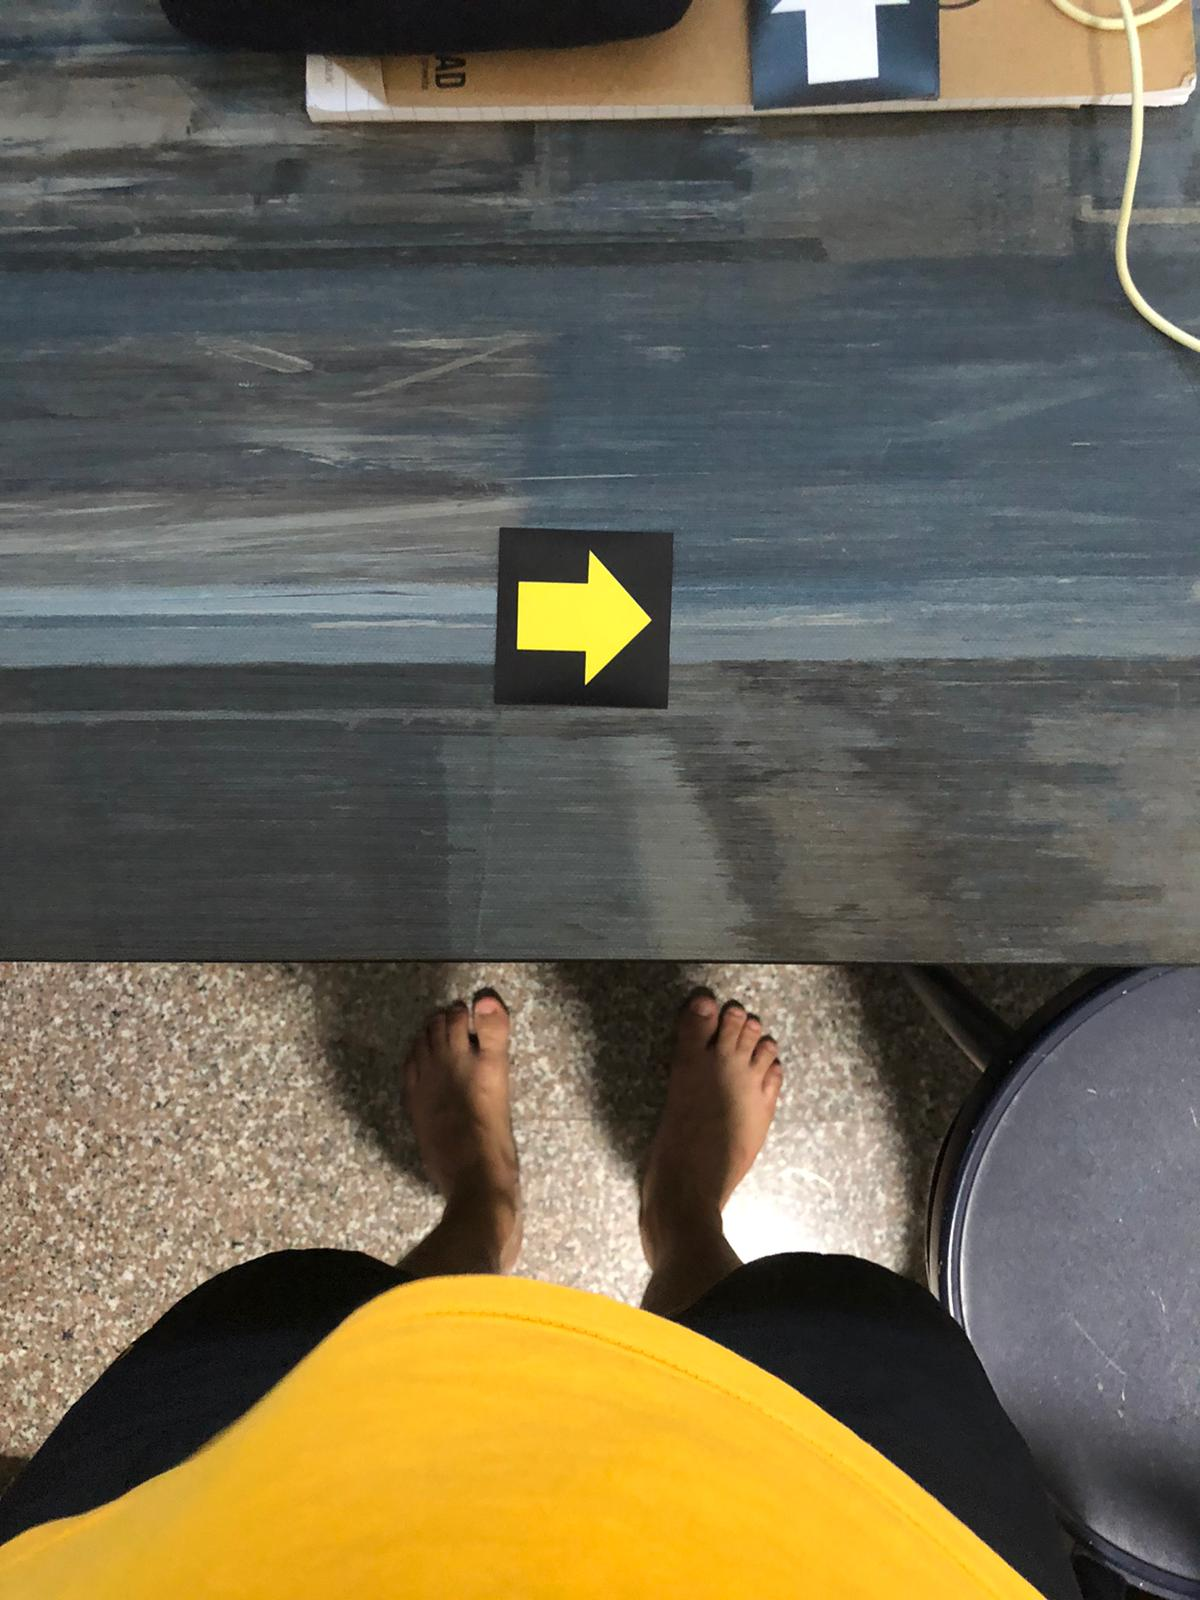Right Arrow: (494, 533, 671, 706)
